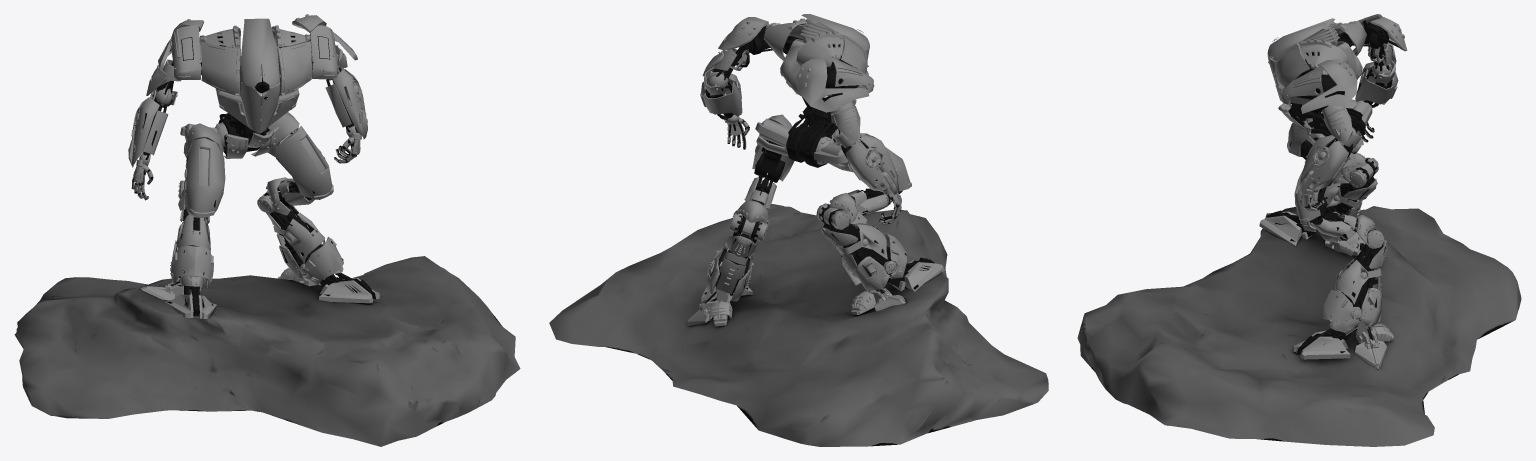
The picture shows the model from 3 angles, left to right: view 1: azimuth 30°, elevation 25°; view 2: azimuth 150°, elevation 25°; view 3: azimuth 270°, elevation 25°; orthographic projection. The views are drawn at different scales.
Parts seen in each view (by area): view 1: Object_8, Object_10, Object_16; view 2: Object_8, Object_10, Object_16; view 3: Object_8, Object_10, Object_16.
Part boxes in pixels (x1,y1,x2,y2): Object_8: [14, 256, 520, 446]; Object_10: [128, 14, 379, 318]; Object_16: [131, 34, 376, 317]; Object_8: [549, 204, 1048, 446]; Object_10: [687, 14, 944, 326]; Object_16: [704, 26, 934, 303]; Object_8: [1077, 206, 1521, 446]; Object_10: [1259, 14, 1407, 369]; Object_16: [1266, 20, 1399, 352].
Size of the model in its own units: 107 by 74.97 by 94.53.
Materials: 6 (1 with a texture image).
